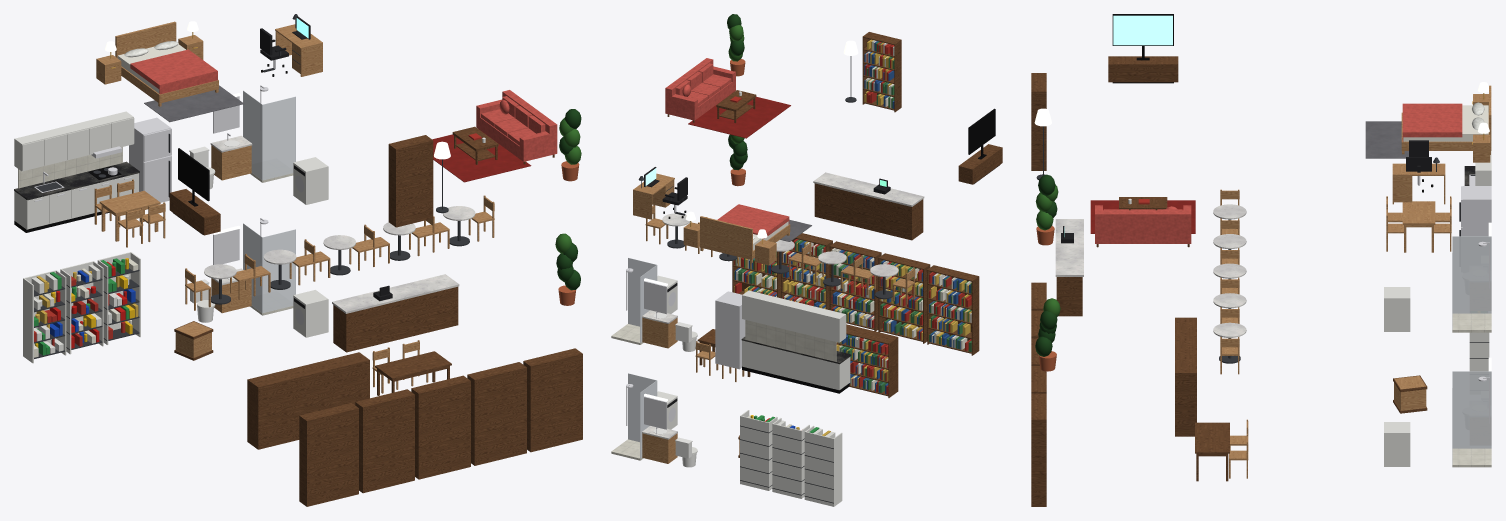
Rendered from i_bookstore_cafe.gltf.
3 renders of one model, left to right at view 1: azimuth 30°, elevation 25°; view 2: azimuth 150°, elevation 25°; view 3: azimuth 270°, elevation 25°, orthographic. The views are drawn at different scales.
Visible parts, largest first — view 1: I_bookstore_cafe; view 2: I_bookstore_cafe; view 3: I_bookstore_cafe.
Boxes of the visible parts, x1=… form: I_bookstore_cafe: x1=14, y1=14, x2=582, y2=506; I_bookstore_cafe: x1=611, y1=14, x2=1002, y2=506; I_bookstore_cafe: x1=1031, y1=14, x2=1491, y2=506.
Bounding box in the file's own units: 9.33 × 8.6 × 10.52.
36 materials, 10 textured.
